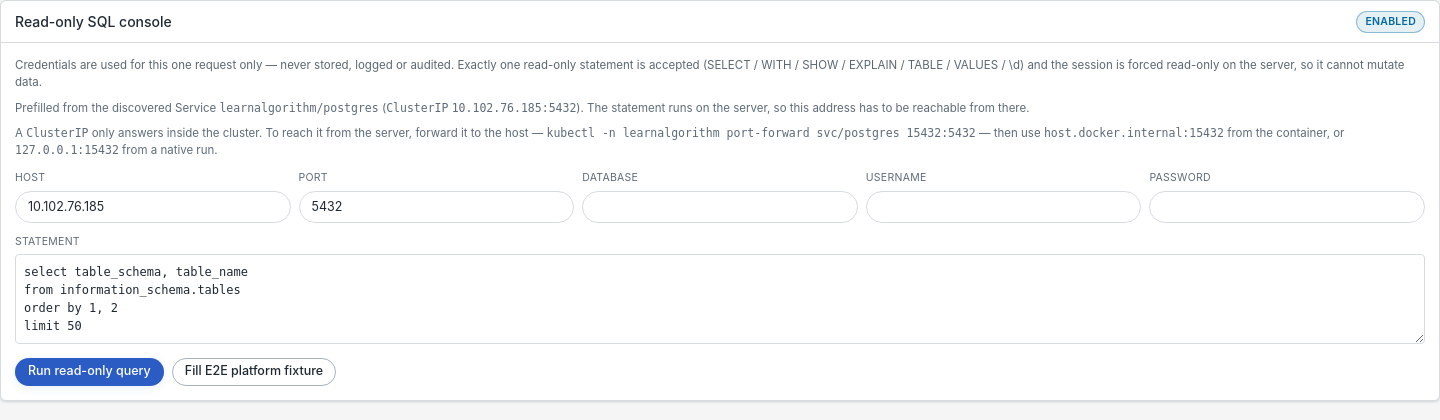
Scenario: SqlConsole › says where the endpoint in the fields came from
Check: the text "Prefilled from the discovered Service" is shown, box x1=15 y1=100 x2=216 y2=114
What coordinates should you click on to do the following:
click the button "Fill E2E platform fixture"
I would click on:
 (254, 372)
Its box is x1=172 y1=358 x2=336 y2=386.
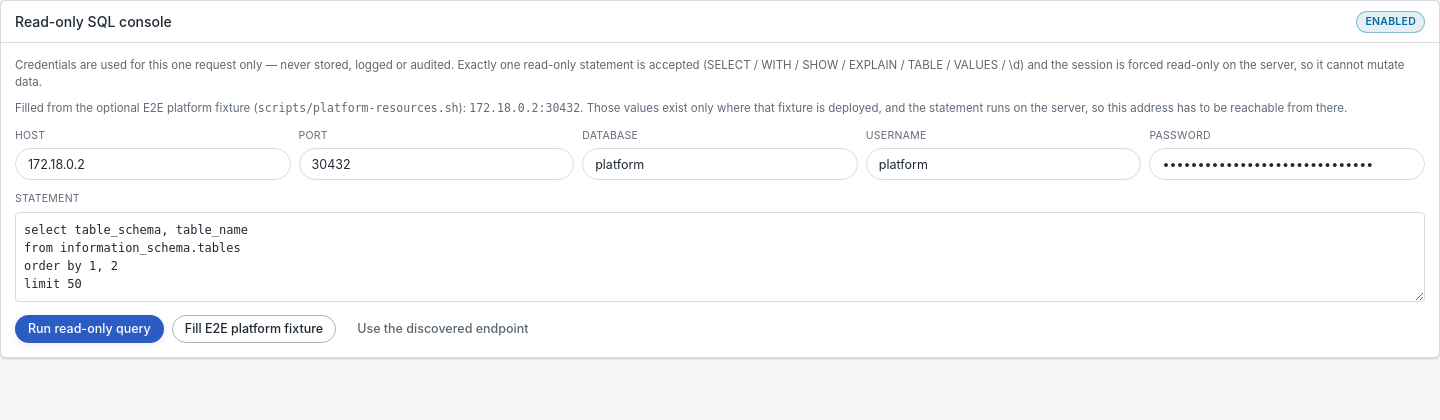
Check: the text "optional E2E platform fixture" is shown, box x1=15 y1=100 x2=258 y2=114
Check: the text "only answers inside the cluster" is gone
Check: the text "Prefilled from the discovered Service" is gone
